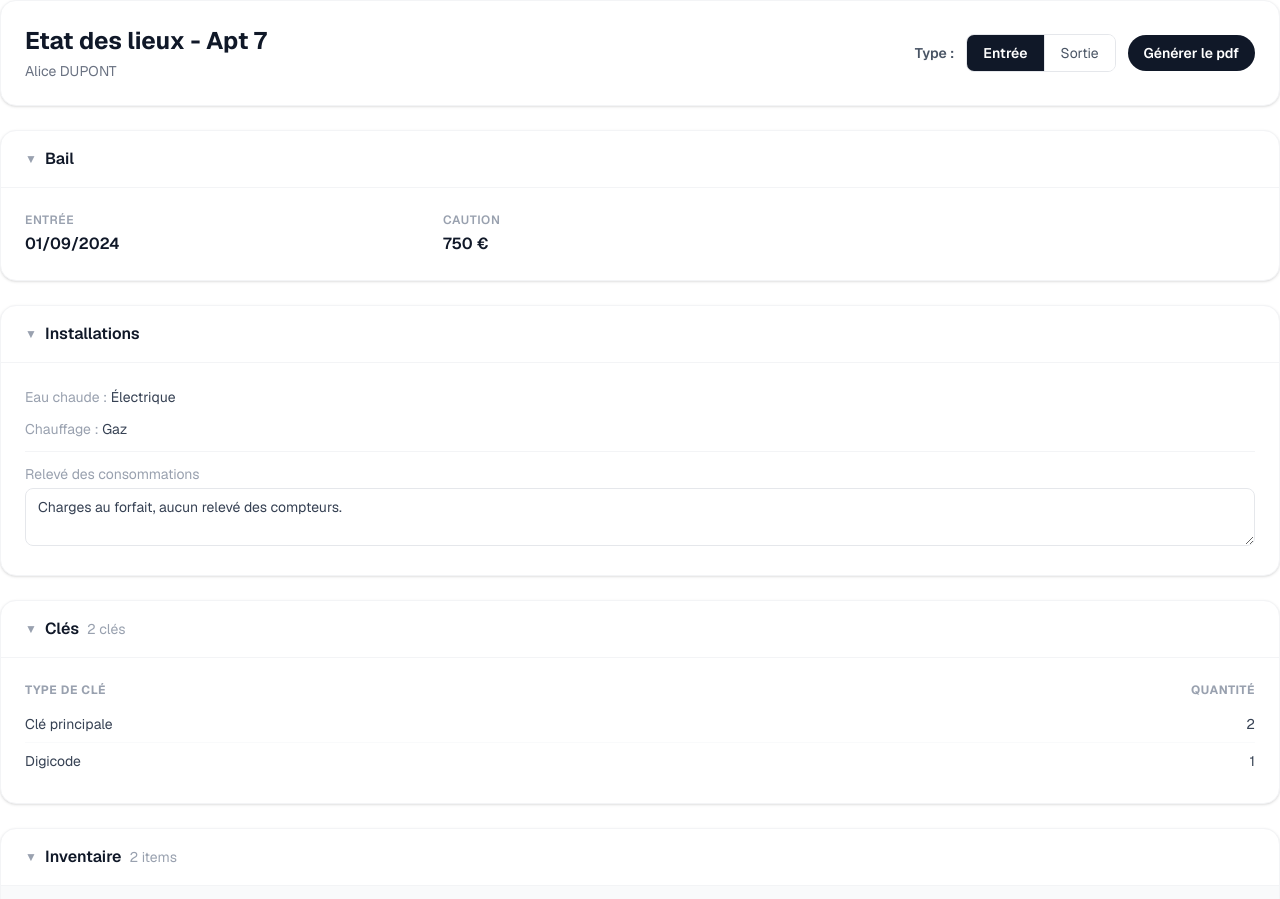
Test: EdlFigeView — toggle Entrée/Sortie › affiche la date de sortie en mode Sortie (sans header)
The image size is (1280, 899).
Click the button "Sortie" at (1079, 53), box left=1044, top=35, right=1114, bottom=71
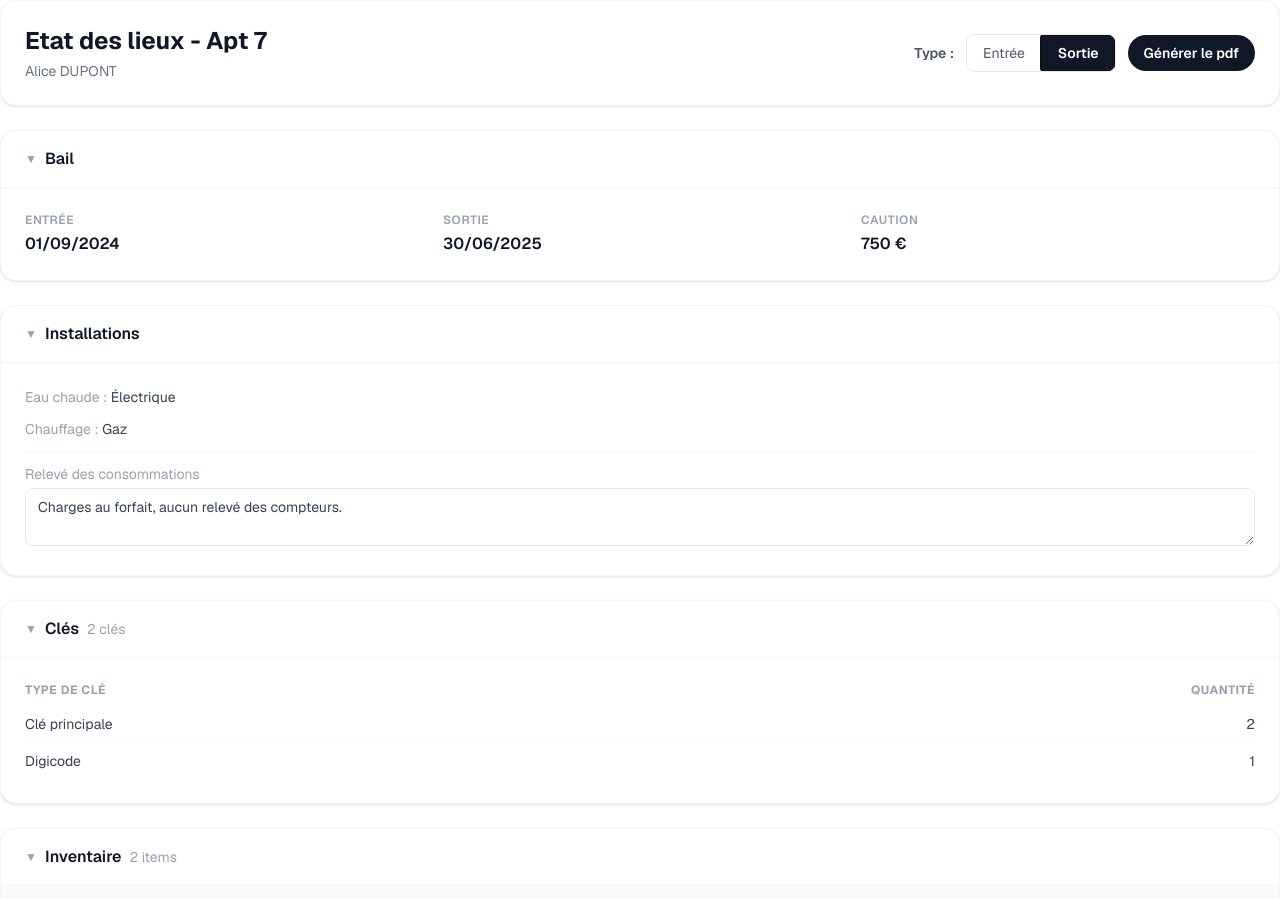
Check: the text "30/06/2025" is shown, box left=443, top=233, right=542, bottom=254
